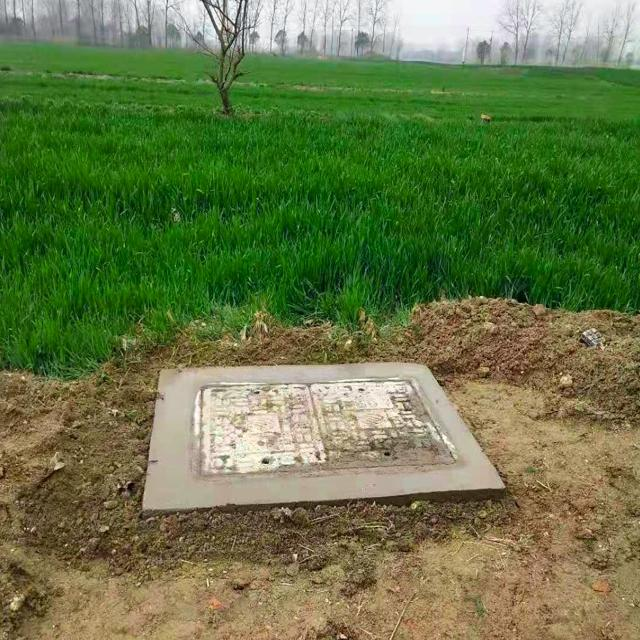good: (141, 328, 498, 509)
